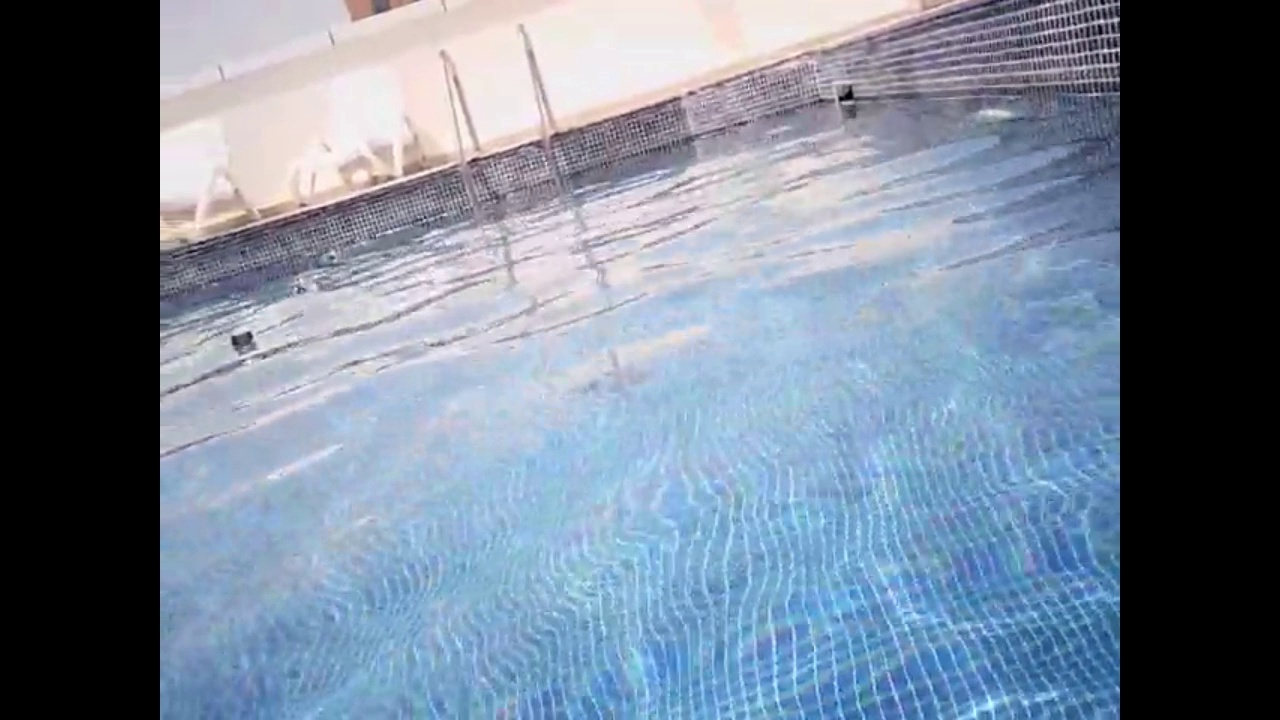debris: (225, 323, 258, 363), (312, 243, 343, 271), (282, 271, 312, 295)
